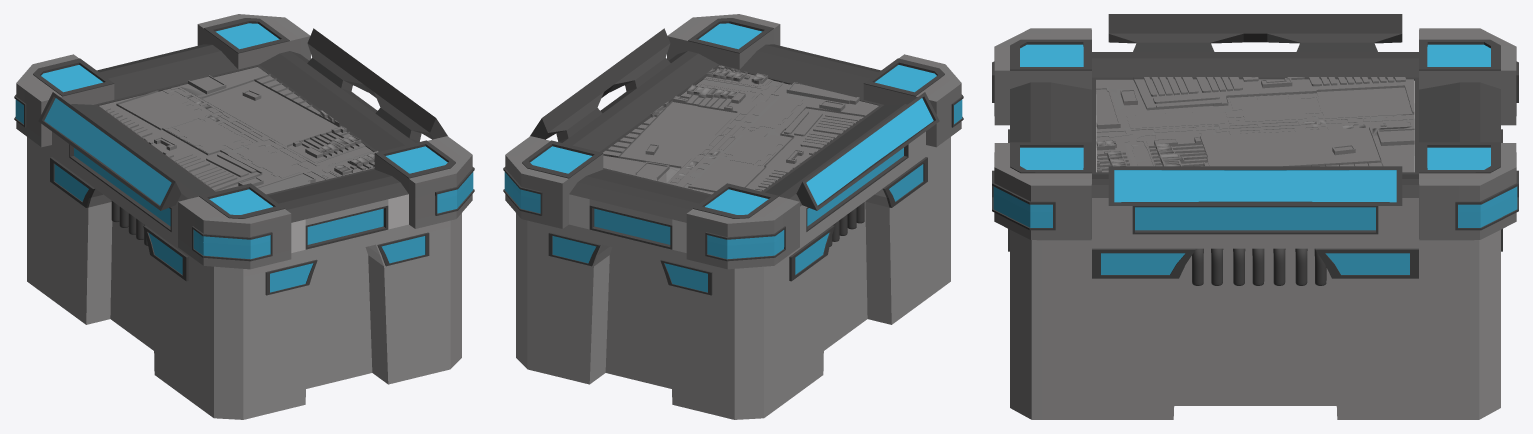
File: Table_CLEANED_Shaded_Finished.fbx
The picture shows the model from 3 angles, left to right: view 1: azimuth 30°, elevation 25°; view 2: azimuth 150°, elevation 25°; view 3: azimuth 270°, elevation 25°; orthographic projection. The views are drawn at different scales.
Parts seen in each view (by area): view 1: Cube, Straat; view 2: Cube, Straat; view 3: Cube, Straat, Cylinder.004, Cylinder.005, Cylinder.010.
Part boxes in pixels (x1=…): Cube: x1=14, y1=14, x2=474, y2=419; Straat: x1=99, y1=67, x2=378, y2=194; Cube: x1=503, y1=14, x2=963, y2=419; Straat: x1=603, y1=65, x2=878, y2=193; Cube: x1=992, y1=14, x2=1518, y2=419; Straat: x1=1096, y1=77, x2=1414, y2=172; Cylinder.004: x1=1273, y1=248, x2=1285, y2=285; Cylinder.005: x1=1295, y1=248, x2=1307, y2=285; Cylinder.010: x1=1252, y1=248, x2=1264, y2=285.
Size of the model in its own units: 655 by 463 by 860.
